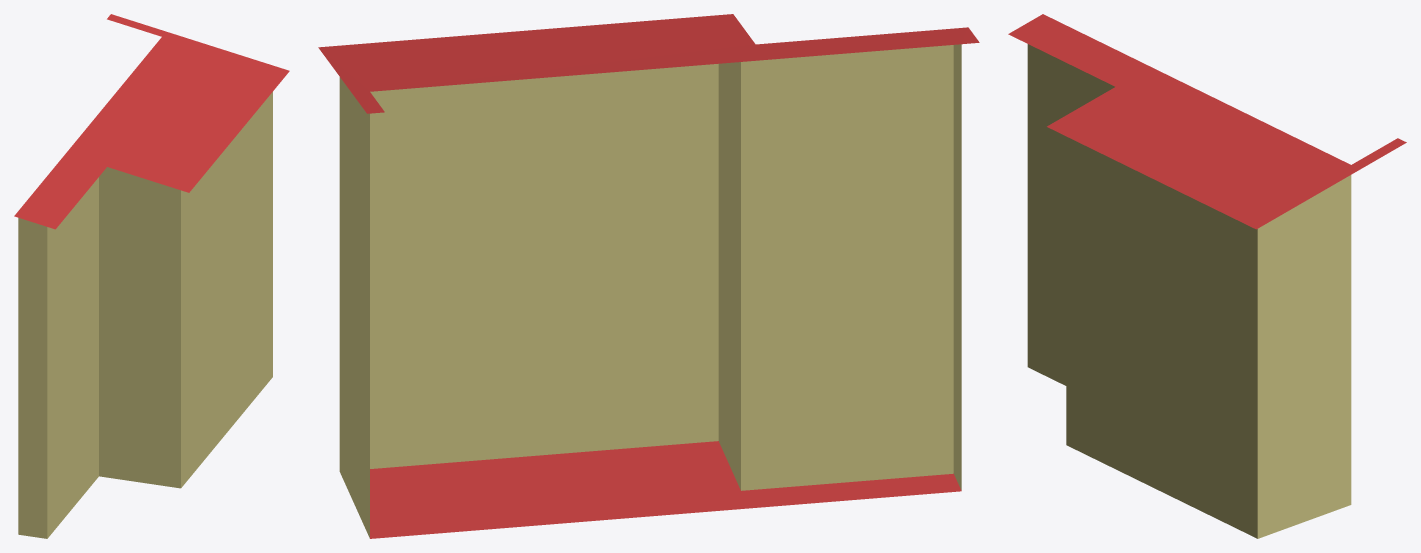
3 renders of one model, left to right at view 1: azimuth 30°, elevation 25°; view 2: azimuth 150°, elevation 25°; view 3: azimuth 270°, elevation 25°, orthographic. The views are drawn at different scales.
Bounding box in the file's own units: 8.18 × 7.13 × 6.89.
